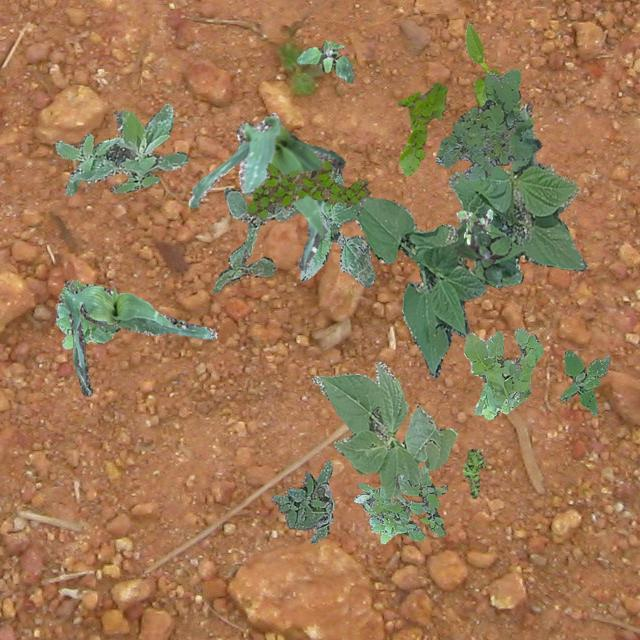crop: (354, 101, 586, 376), (188, 112, 344, 270), (310, 360, 456, 498), (64, 286, 215, 394), (464, 20, 498, 106)
weed: (212, 165, 342, 292), (54, 102, 188, 194), (434, 68, 540, 180), (298, 174, 374, 286), (246, 158, 370, 218), (352, 464, 447, 542), (462, 328, 542, 418), (270, 460, 334, 542), (396, 82, 446, 175), (54, 278, 118, 348), (454, 223, 511, 286), (560, 348, 608, 414), (296, 40, 354, 82), (456, 208, 492, 244), (462, 448, 486, 498)
